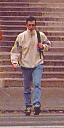person: (12, 14, 48, 110)
